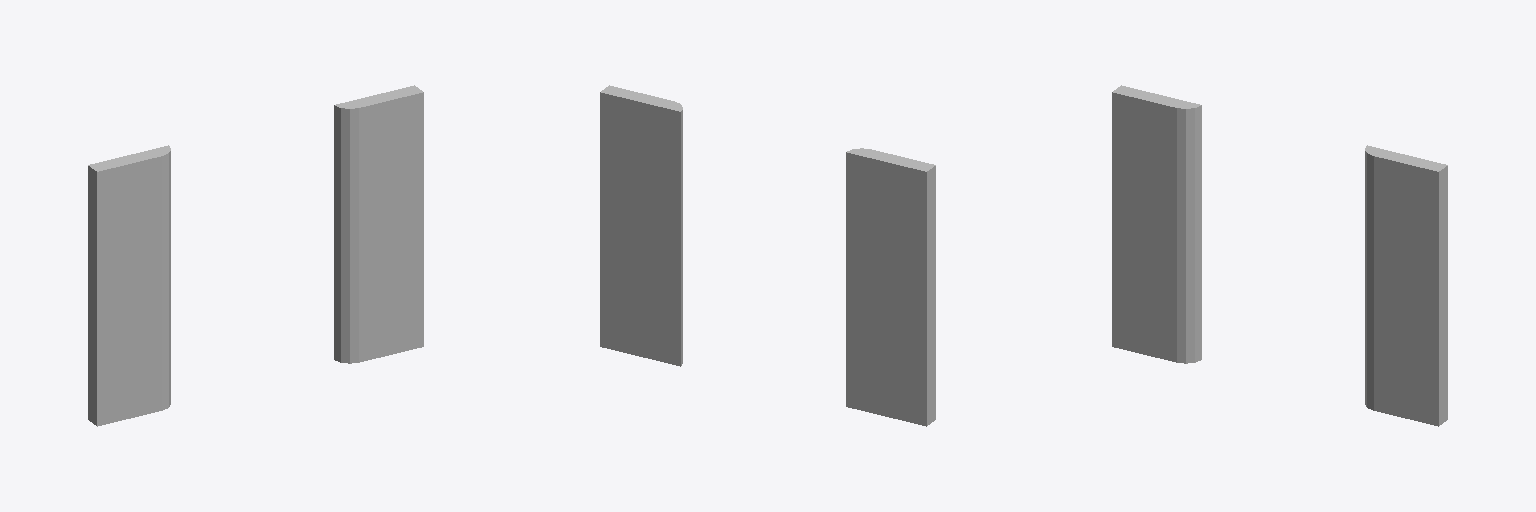
The model's file is AlcoveEntrance.obj.
3 renders of one model, left to right at view 1: azimuth 30°, elevation 25°; view 2: azimuth 150°, elevation 25°; view 3: azimuth 330°, elevation 25°, orthographic.
Parts seen in each view (by area): view 1: AlcoveEntranceR AlCOVE, AlCOVE ALcoveEntranceL; view 2: AlCOVE ALcoveEntranceL, AlcoveEntranceR AlCOVE; view 3: AlCOVE ALcoveEntranceL, AlcoveEntranceR AlCOVE.
Boxes of the visible parts, x1,y1,x2,y2 form: AlcoveEntranceR AlCOVE: [334, 85, 423, 363]; AlCOVE ALcoveEntranceL: [88, 145, 170, 426]; AlCOVE ALcoveEntranceL: [846, 148, 935, 426]; AlcoveEntranceR AlCOVE: [600, 85, 682, 366]; AlCOVE ALcoveEntranceL: [1112, 85, 1201, 363]; AlcoveEntranceR AlCOVE: [1365, 145, 1447, 426].
Size of the model in its own units: 403 by 300 by 20.